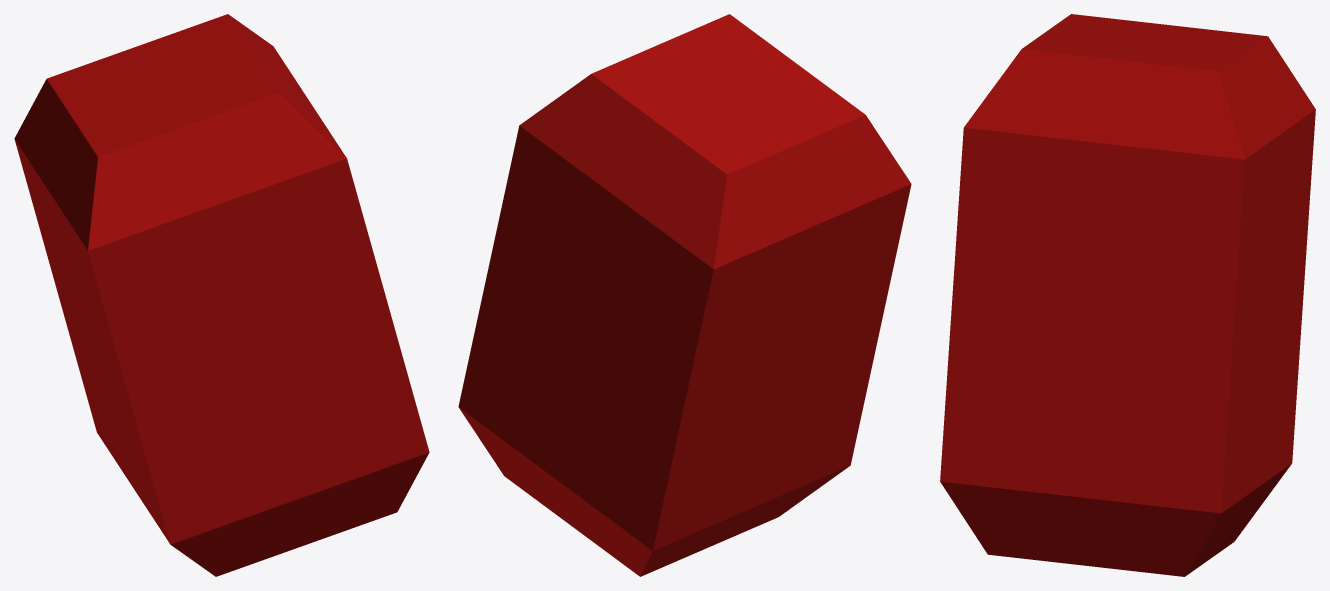
File: town_jewel0007.obj
3 renders of one model, left to right at view 1: azimuth 30°, elevation 25°; view 2: azimuth 150°, elevation 25°; view 3: azimuth 270°, elevation 25°, orthographic. The views are drawn at different scales.
Visible parts, largest first — view 1: RedJewel; view 2: RedJewel; view 3: RedJewel.
Part boxes in pixels (bbox=[...]): RedJewel: bbox=[14, 14, 429, 576]; RedJewel: bbox=[458, 14, 911, 576]; RedJewel: bbox=[940, 14, 1315, 576].
Bounding box in the file's own units: 0.9515 × 1.21 × 0.8274.
